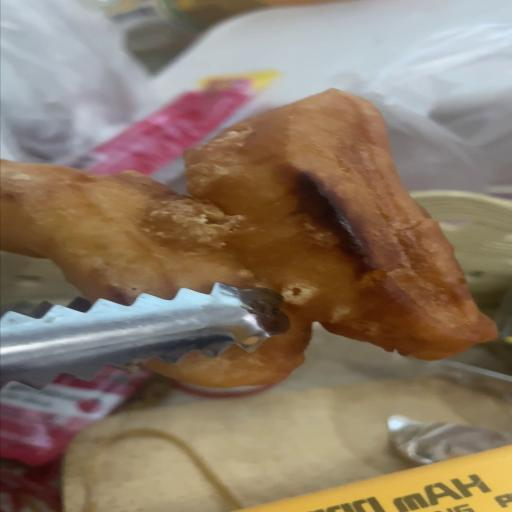street_burnt_defect: (1, 88, 488, 389)
